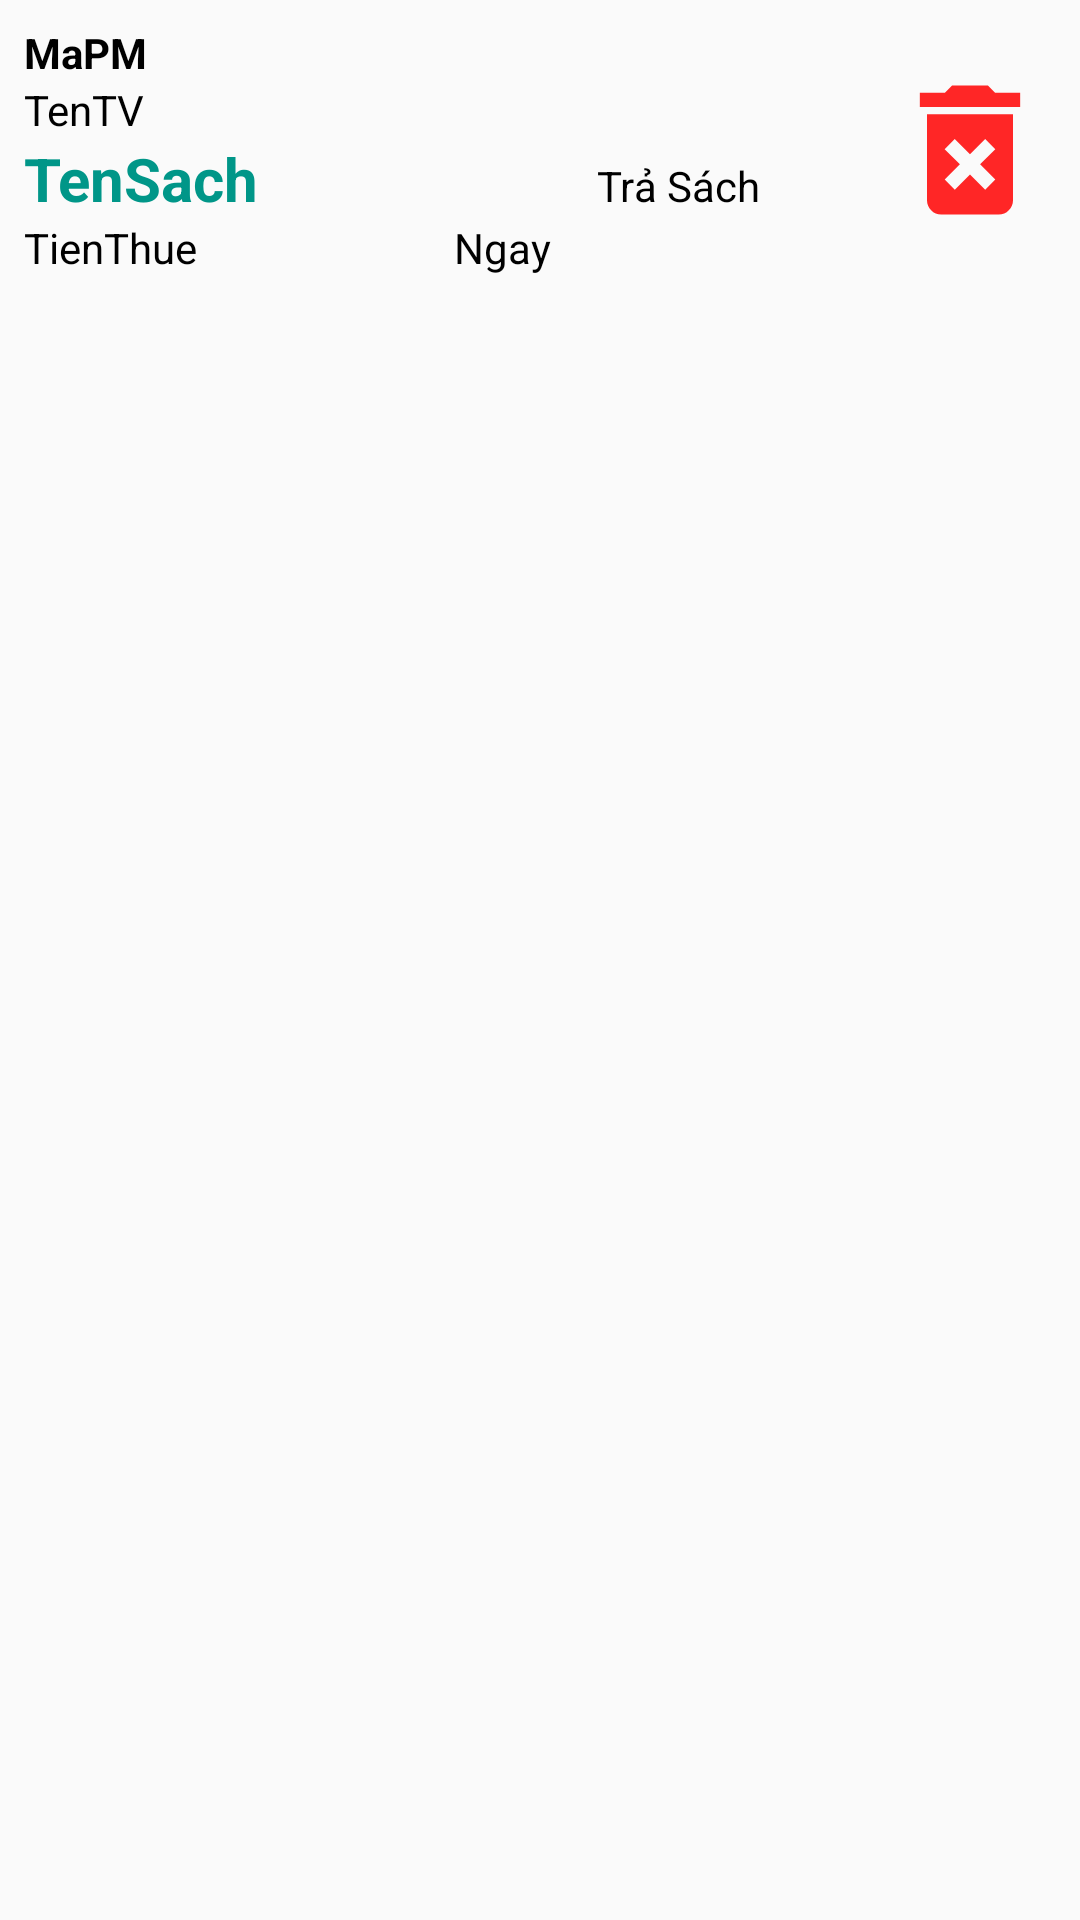

Icon click points for this 1080w x 1920h phone screenshot, format (x,y):
delete: (970,150)
